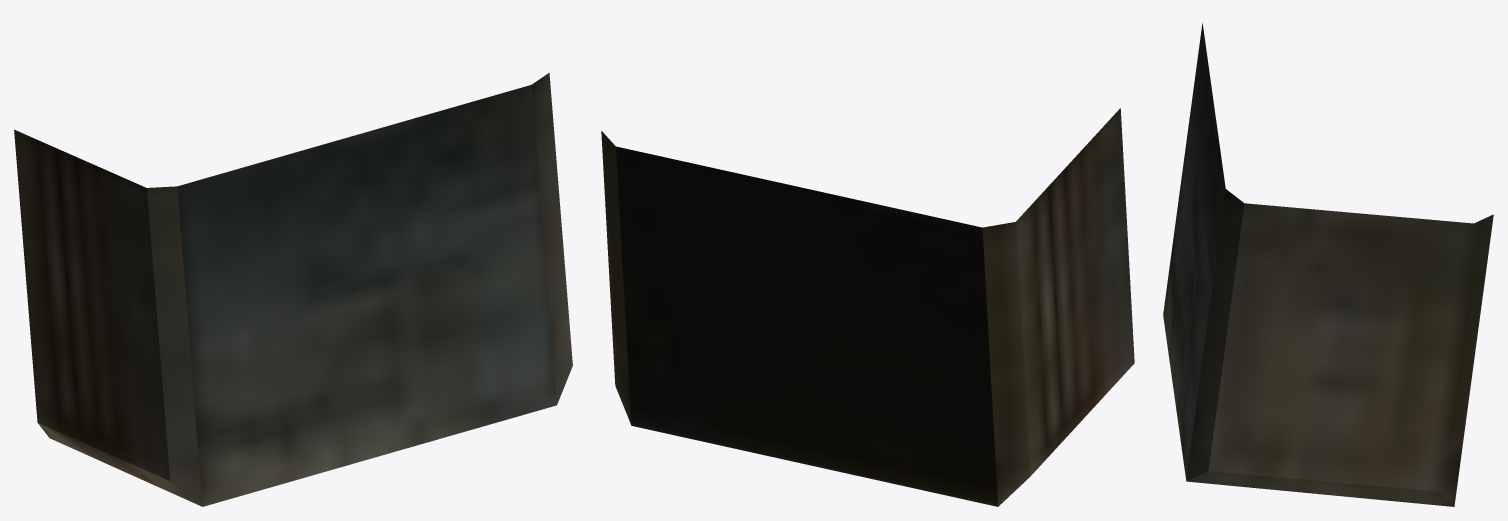
The model's file is prop_flak88_piece2.glb.
3 views of the same model, side by side, from view 1: azimuth 30°, elevation 25°; view 2: azimuth 150°, elevation 25°; view 3: azimuth 270°, elevation 25° (orthographic). The views are drawn at different scales.
Size of the model in its own units: 11.28 by 8.5 by 7.87.
1 material, 1 textured.
